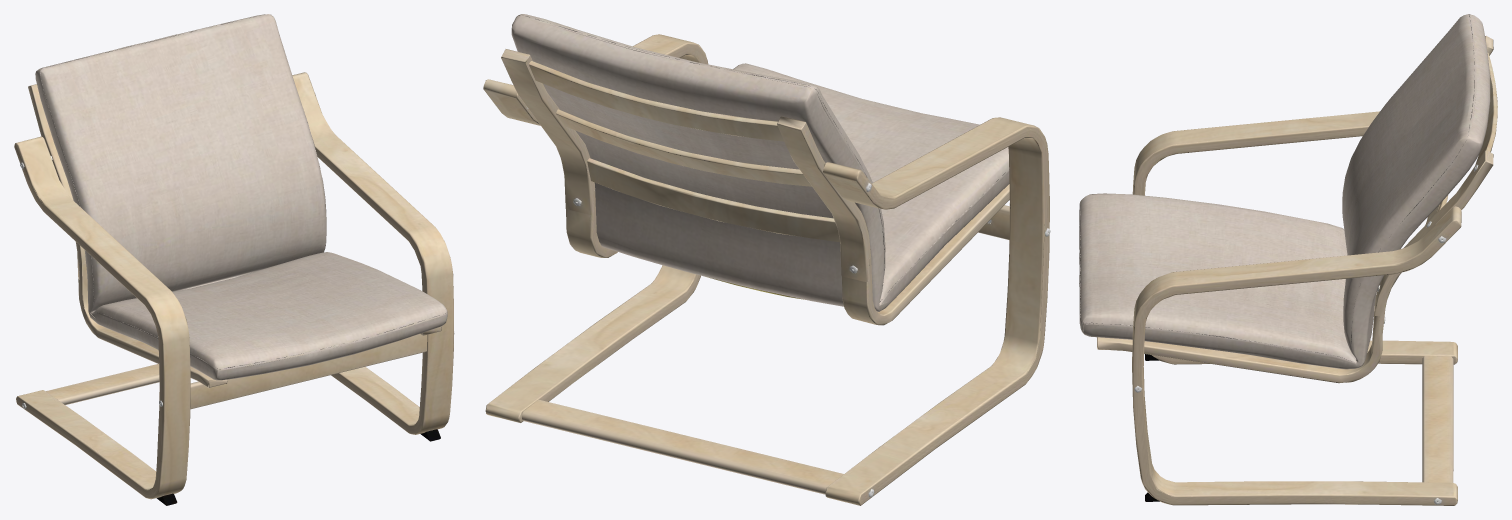
File: poang_fotel_z_niskim_oparciem_09551605.glb
3 views of the same model, side by side, from view 1: azimuth 30°, elevation 25°; view 2: azimuth 150°, elevation 25°; view 3: azimuth 270°, elevation 25° (orthographic). The views are drawn at different scales.
Visible parts, largest first — view 1: poang_fotel_z_niskim_oparciem_09551605; view 2: poang_fotel_z_niskim_oparciem_09551605; view 3: poang_fotel_z_niskim_oparciem_09551605.
Part boxes in pixels (x1,y1,x2,y2): poang_fotel_z_niskim_oparciem_09551605: [14, 14, 454, 505]; poang_fotel_z_niskim_oparciem_09551605: [483, 14, 1050, 505]; poang_fotel_z_niskim_oparciem_09551605: [1079, 14, 1497, 505].
Bounding box in the file's own units: 0.6634 × 0.7005 × 0.7494.
2 materials, 2 textured.
